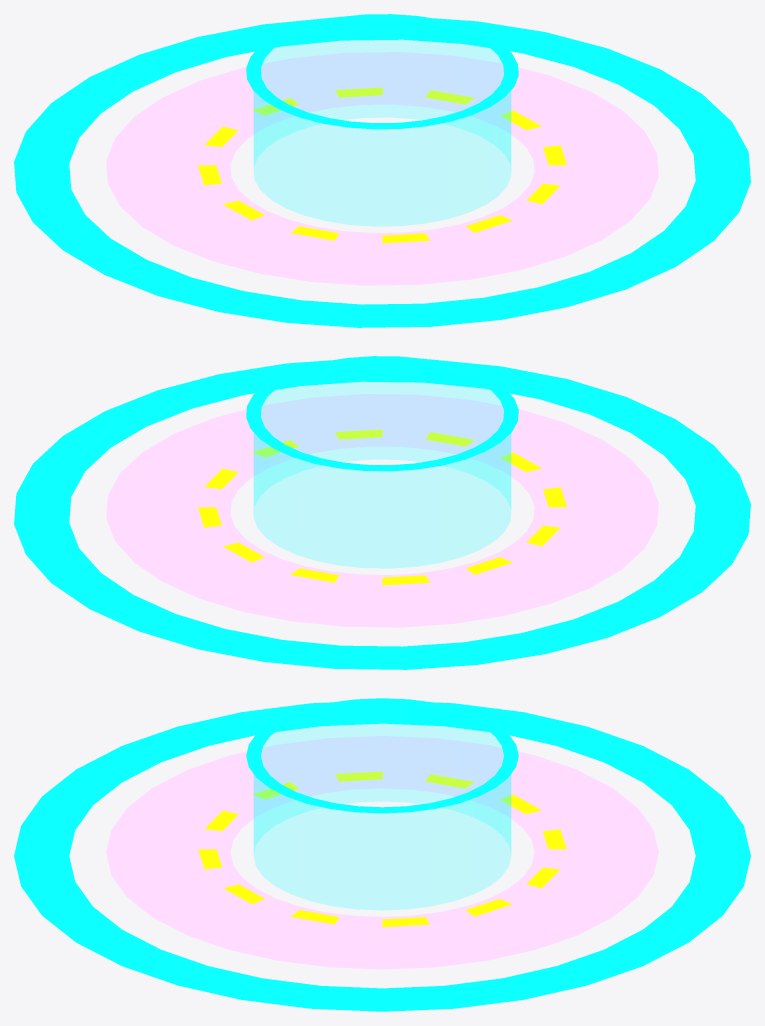
File: FX_Shockwaves.fbx
3 views of the same model, one above another, from view 1: azimuth 30°, elevation 25°; view 2: azimuth 150°, elevation 25°; view 3: azimuth 270°, elevation 25° (orthographic).
Parts seen in each view (by area): view 1: Shock_SoftRing, Shock_ThinRing, Shock_PulseWall, Shock_PulseWallRim, Shock_DashedRing; view 2: Shock_SoftRing, Shock_ThinRing, Shock_PulseWall, Shock_PulseWallRim, Shock_DashedRing; view 3: Shock_SoftRing, Shock_ThinRing, Shock_PulseWall, Shock_PulseWallRim, Shock_DashedRing.
Boxes of the visible parts, box(x1,y1,x2,y2) form: Shock_SoftRing: box(106, 52, 658, 285); Shock_ThinRing: box(14, 17, 750, 327); Shock_PulseWall: box(254, 21, 510, 225); Shock_PulseWallRim: box(246, 14, 518, 129); Shock_DashedRing: box(198, 87, 566, 243); Shock_SoftRing: box(106, 394, 658, 627); Shock_ThinRing: box(14, 359, 750, 669); Shock_PulseWall: box(254, 363, 510, 567); Shock_PulseWallRim: box(246, 356, 518, 471); Shock_DashedRing: box(198, 429, 566, 585); Shock_SoftRing: box(106, 736, 658, 969); Shock_ThinRing: box(14, 702, 750, 1011); Shock_PulseWall: box(254, 705, 510, 910); Shock_PulseWallRim: box(246, 698, 518, 813); Shock_DashedRing: box(198, 771, 566, 927).
Size of the model in its own units: 2 by 0.3 by 2.
